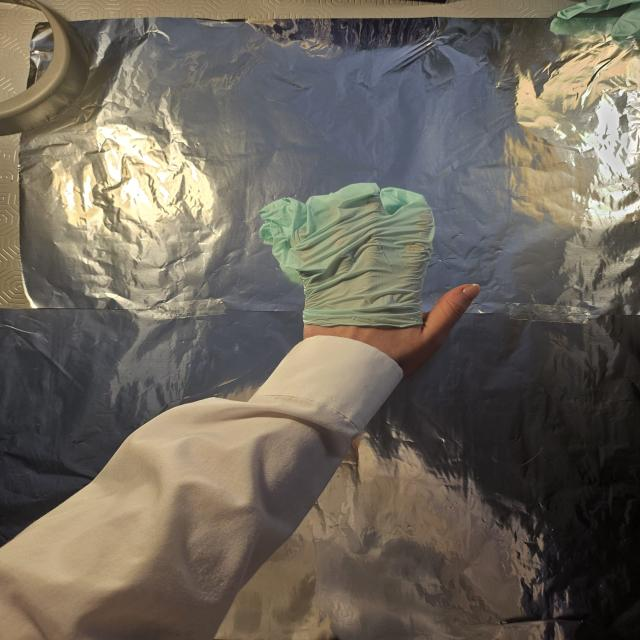glove_partial: (260, 180, 482, 368)
